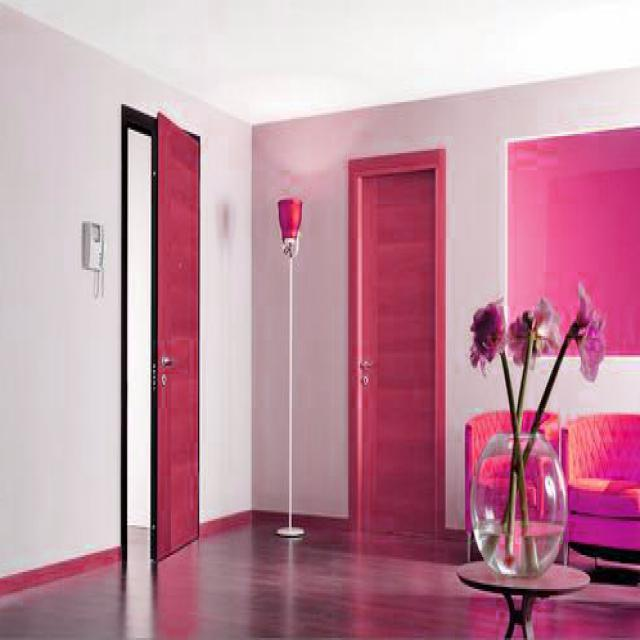door: (344, 123, 460, 580), (113, 101, 218, 584)
